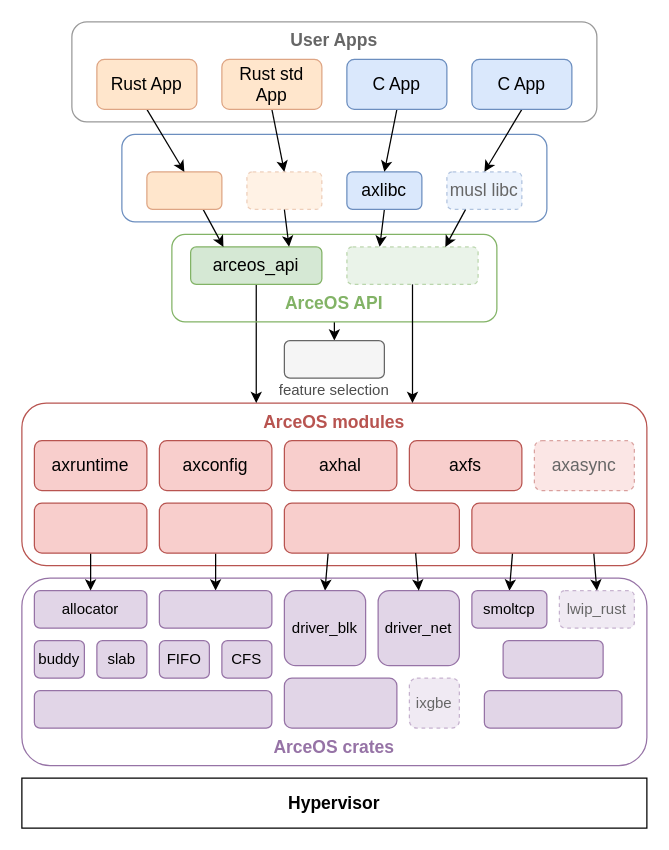
This 669x850 diagram has some shape labels left out. Each missing label, with the box of its shape:
ArceOS ulib: (121, 133, 547, 222)
arceos_api_posix: (346, 246, 478, 284)
axalloc: (33, 502, 147, 553)
axdriver: (283, 502, 459, 553)
axfeat: (283, 339, 384, 378)
axnet: (471, 502, 634, 553)
axstd: (146, 171, 222, 209)
axtask: (158, 502, 272, 553)
driver_virtio: (283, 677, 397, 728)
linked_list: (33, 689, 272, 728)
page_table: (502, 639, 603, 678)
page_table_entry: (483, 689, 622, 728)
rust std: (246, 171, 322, 209)
scheduler: (158, 589, 272, 628)
